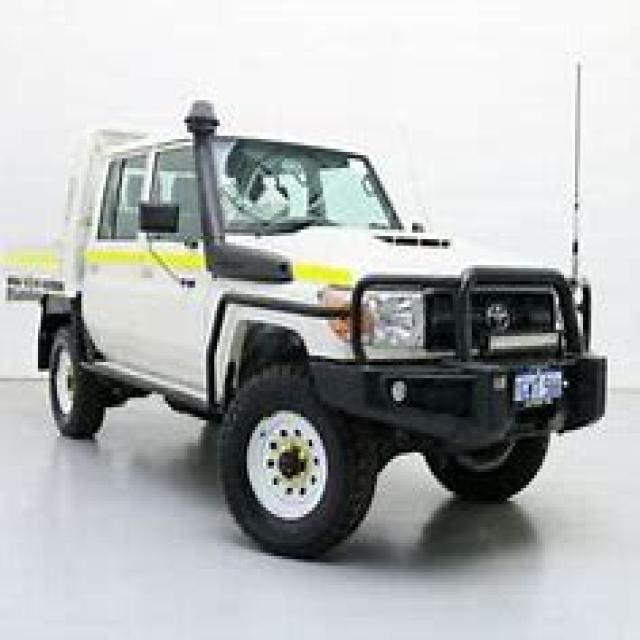light_vehicle: (0, 97, 616, 569)
